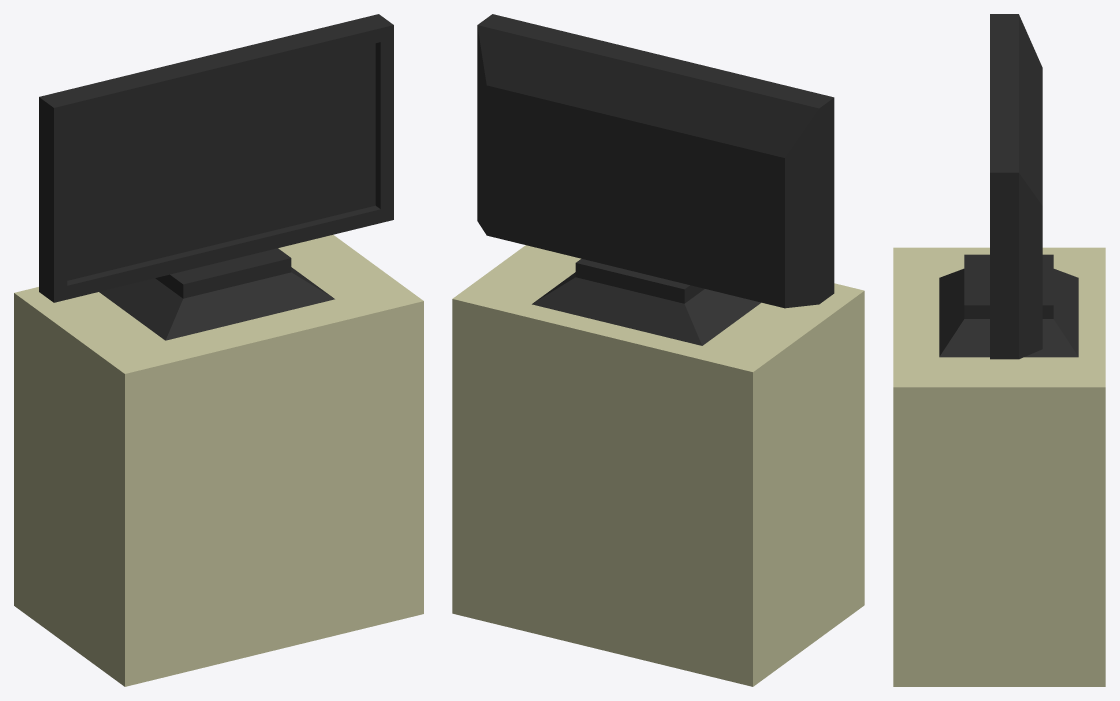
File: TVandshelf.fbx
The picture shows the model from 3 angles, left to right: view 1: azimuth 30°, elevation 25°; view 2: azimuth 150°, elevation 25°; view 3: azimuth 270°, elevation 25°; orthographic projection. The views are drawn at different scales.
Visible parts, largest first — view 1: Cube.033; view 2: Cube.033; view 3: Cube.033.
Part boxes in pixels (x1,y1,x2,y2): Cube.033: (14, 14, 423, 686); Cube.033: (452, 14, 864, 686); Cube.033: (893, 14, 1105, 686).
Size of the model in its own units: 114 by 175 by 64.24.
